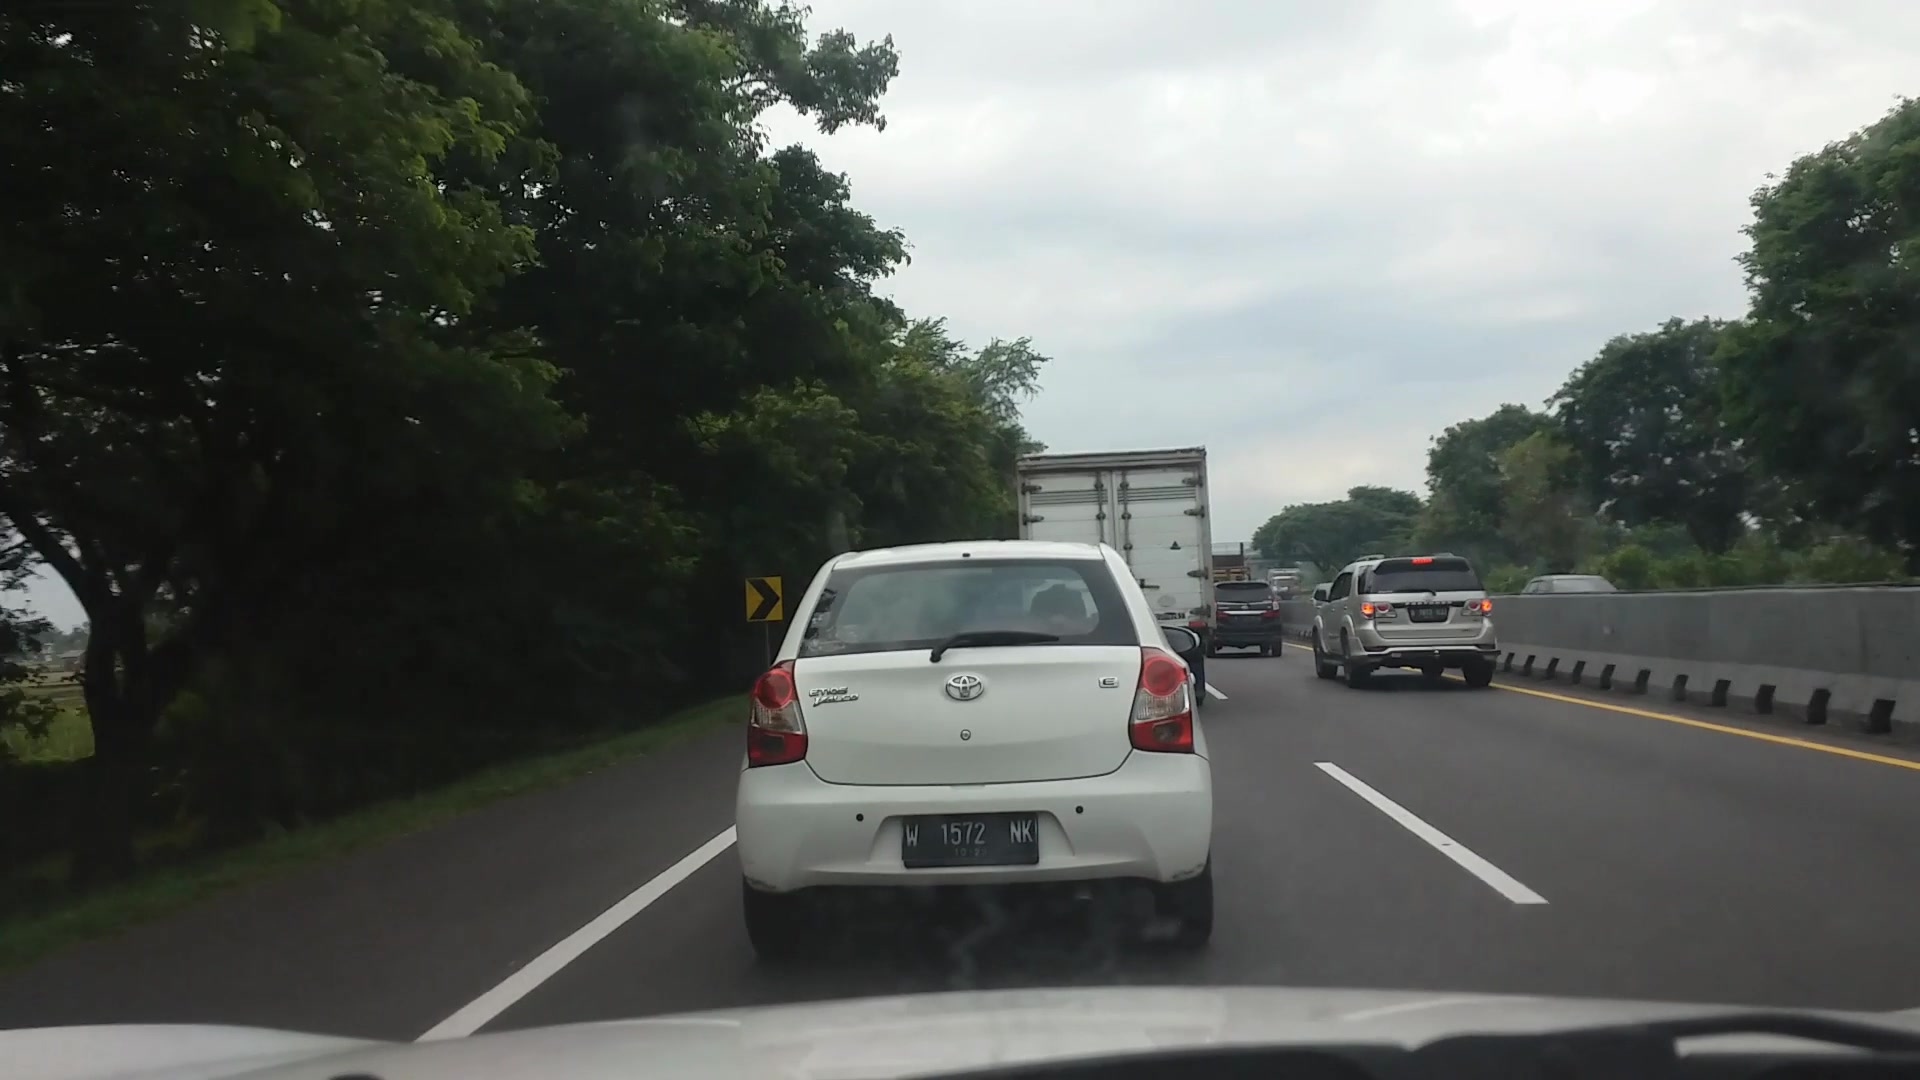plate_positive: (902, 811, 1039, 868)
